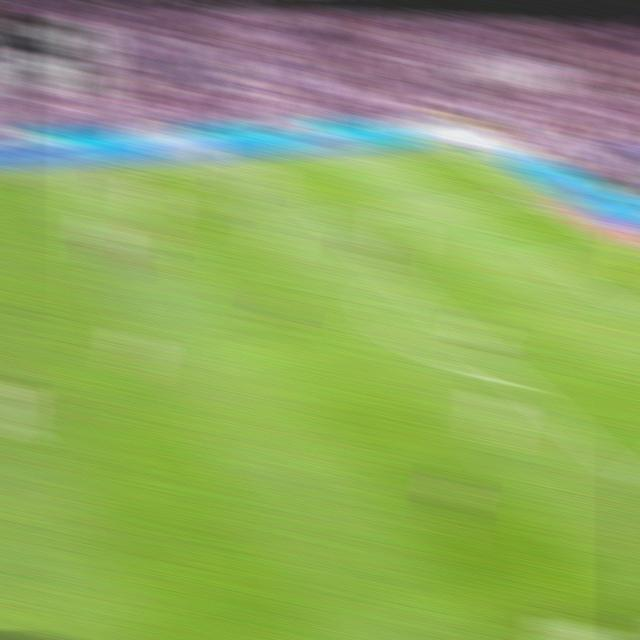bigarea_top_inner: (313, 208, 341, 226)
bigarea_top_outter: (514, 186, 546, 206)
bottom_arc_area_intersection: (502, 369, 536, 395)
corner: (432, 139, 464, 155)
smallarea_top_inner: (530, 246, 562, 267)
top_arc_area_intersection: (386, 270, 417, 294)
